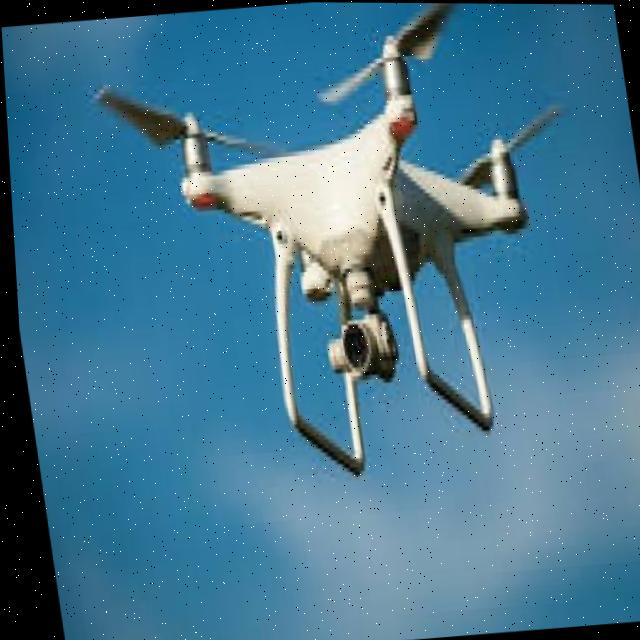drones: (57, 0, 637, 536)
